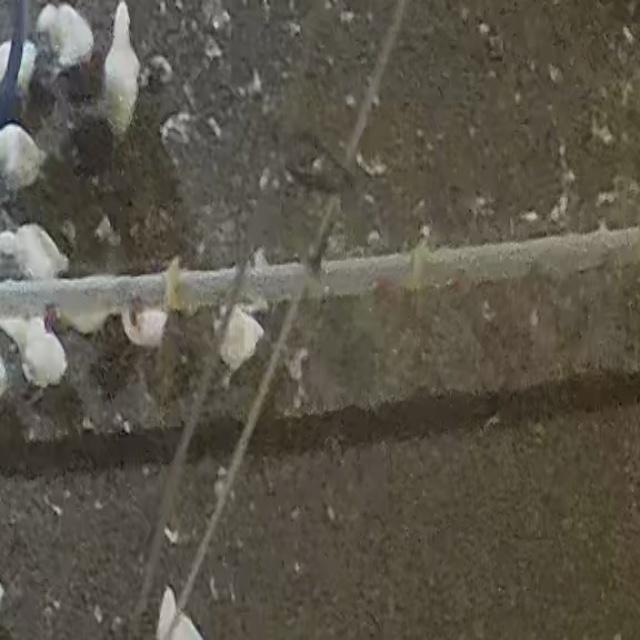chicken: (101, 0, 145, 134), (209, 302, 268, 383), (5, 315, 69, 389), (30, 2, 97, 63), (1, 221, 72, 277)
